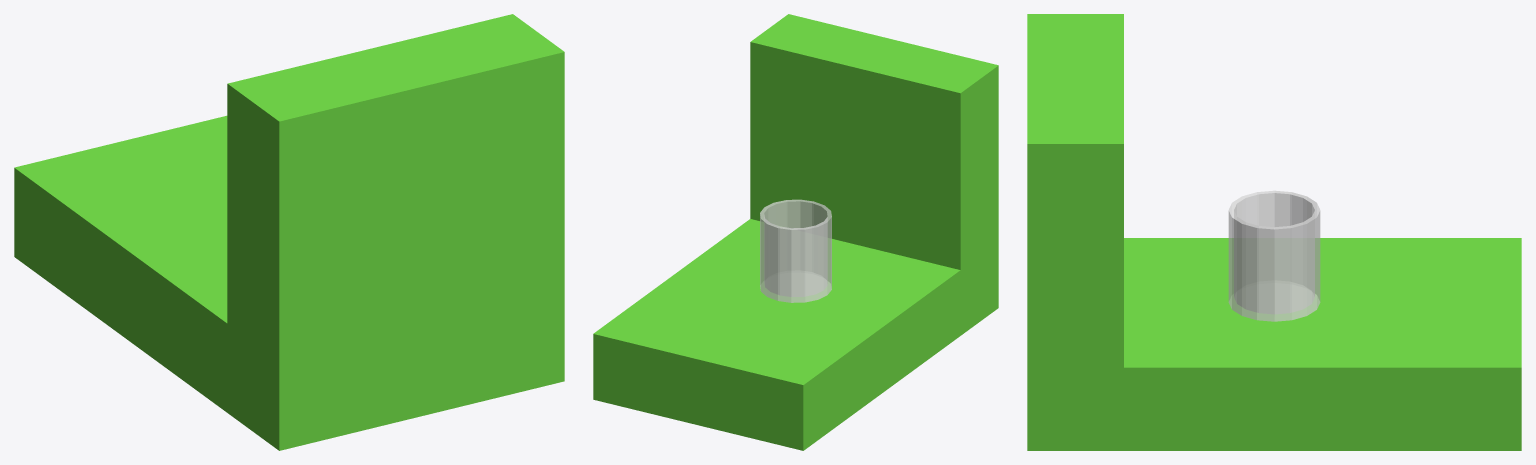
Rendered from lomaem_sanya.fbx.
The picture shows the model from 3 angles, left to right: view 1: azimuth 30°, elevation 25°; view 2: azimuth 150°, elevation 25°; view 3: azimuth 270°, elevation 25°; orthographic projection. The views are drawn at different scales.
Parts seen in each view (by area): view 1: Cube.002; view 2: Cube.002, Cylinder; view 3: Cube.002, Cylinder.
Part boxes in pixels (bbox=[...]): Cube.002: bbox=[14, 14, 564, 450]; Cube.002: bbox=[593, 14, 998, 450]; Cylinder: bbox=[760, 199, 831, 302]; Cube.002: bbox=[1027, 14, 1521, 450]; Cylinder: bbox=[1228, 190, 1320, 321].
Size of the model in its own units: 6.69 by 7.38 by 10.76.
